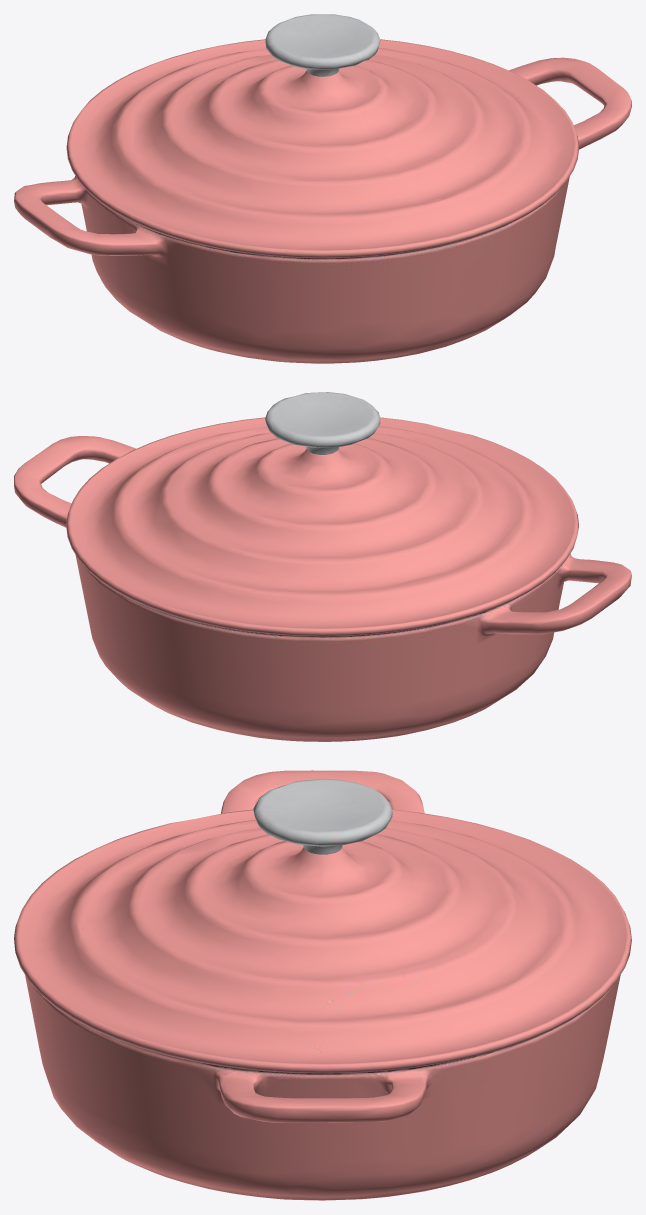
Rendered from vardagen_garnek_z_pokrywka_40631394.glb.
3 views of the same model, one above another, from view 1: azimuth 30°, elevation 25°; view 2: azimuth 150°, elevation 25°; view 3: azimuth 270°, elevation 25° (orthographic). The views are drawn at different scales.
Parts seen in each view (by area): view 1: vardagen_garnek_z_pokrywka_40631394; view 2: vardagen_garnek_z_pokrywka_40631394; view 3: vardagen_garnek_z_pokrywka_40631394.
Boxes of the visible parts, box(x1,y1,x2,y2) form: vardagen_garnek_z_pokrywka_40631394: box(14, 14, 631, 363); vardagen_garnek_z_pokrywka_40631394: box(14, 392, 631, 741); vardagen_garnek_z_pokrywka_40631394: box(14, 770, 631, 1200).
Size of the model in its own units: 0.3176 by 0.1268 by 0.2456.
Materials: 1 (1 with a texture image).
